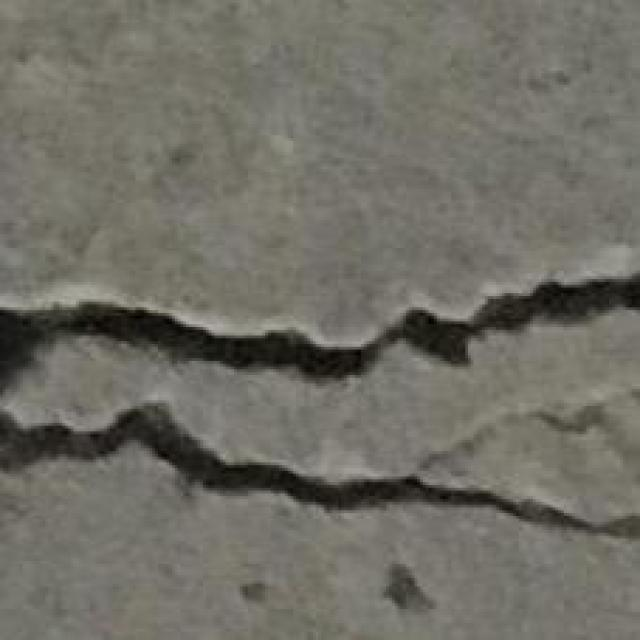Crack: (0, 401, 637, 538), (0, 265, 637, 398)
